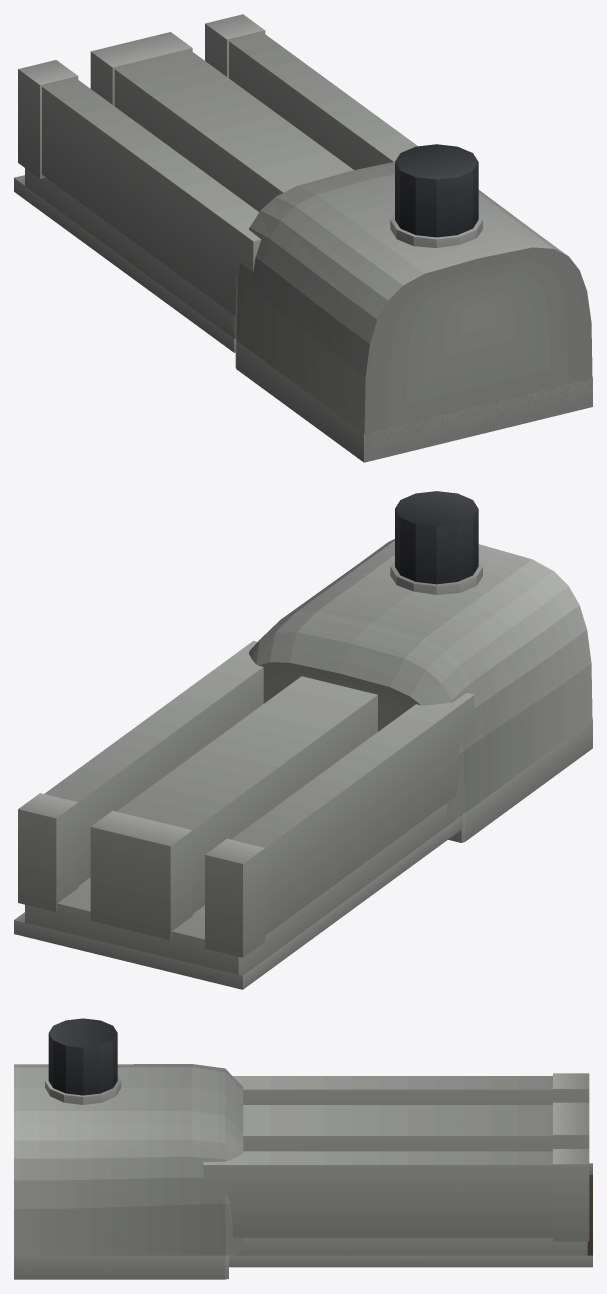
The model's file is streetlight_cinavion.obj.
The picture shows the model from 3 angles, top to bottom: view 1: azimuth 30°, elevation 25°; view 2: azimuth 150°, elevation 25°; view 3: azimuth 270°, elevation 25°; orthographic projection. The views are drawn at different scales.
Parts seen in each view (by area): view 1: fixture; view 2: fixture; view 3: fixture.
Part boxes in pixels (left/top/right/bottom): fixture: left=14, top=14, right=592, bottom=462; fixture: left=14, top=491, right=592, bottom=989; fixture: left=14, top=1018, right=592, bottom=1279.
Size of the model in its own units: 0.375 by 0.3794 by 0.9937.
